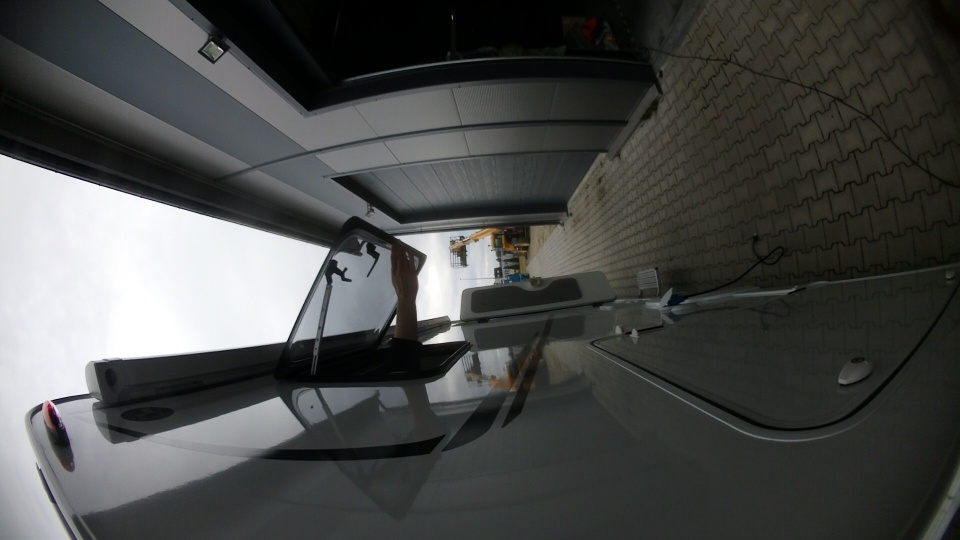door_back: (455, 257, 619, 325)
step_back: (628, 264, 667, 297)
window_back: (262, 210, 474, 393)
